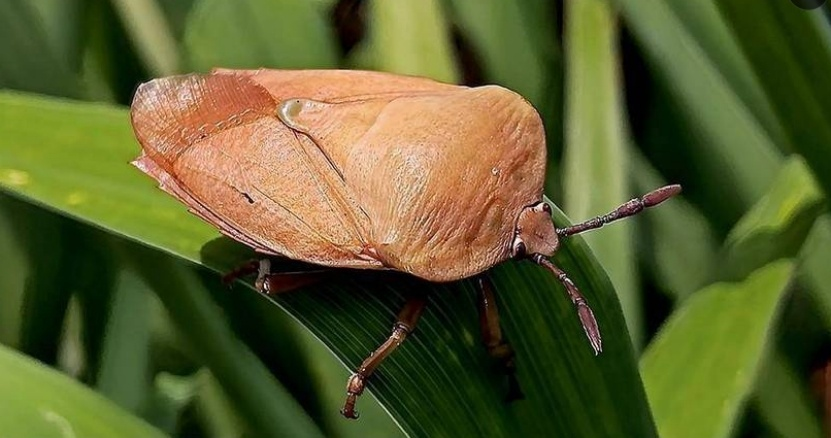Stink_Bug: (135, 61, 667, 332)
